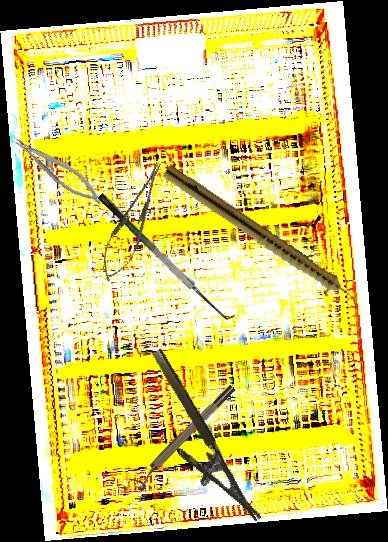Fixation Ring: (128, 382, 242, 493)
Handpiece: (159, 164, 366, 312)
Needle Holder: (128, 347, 262, 538), (93, 157, 173, 287), (6, 126, 108, 212)
Spatula Surgical: (96, 181, 240, 329)
